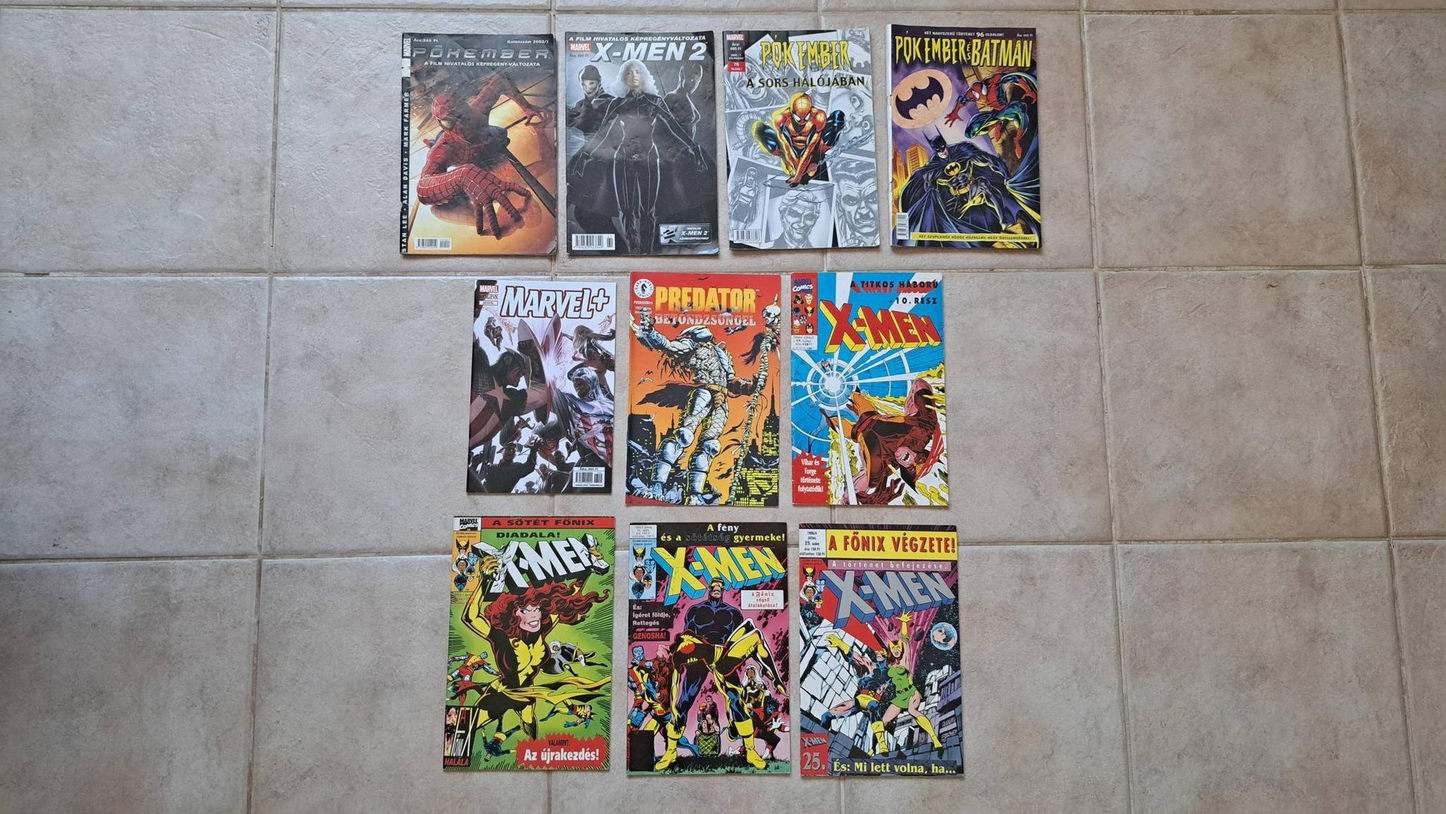comic: (443, 512, 617, 775), (795, 522, 963, 778), (624, 522, 789, 775), (788, 270, 948, 506), (626, 272, 782, 506), (888, 22, 1042, 251), (563, 29, 717, 257), (724, 27, 878, 250), (402, 33, 557, 254), (467, 277, 619, 497)
